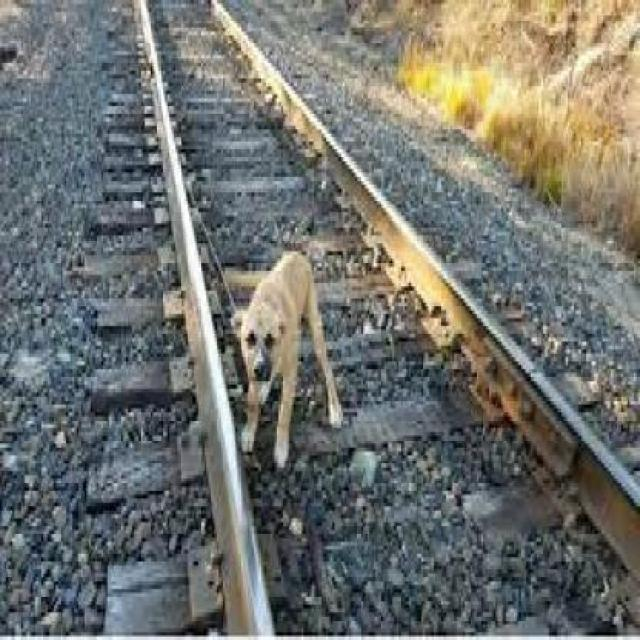rail: (86, 7, 638, 638)
